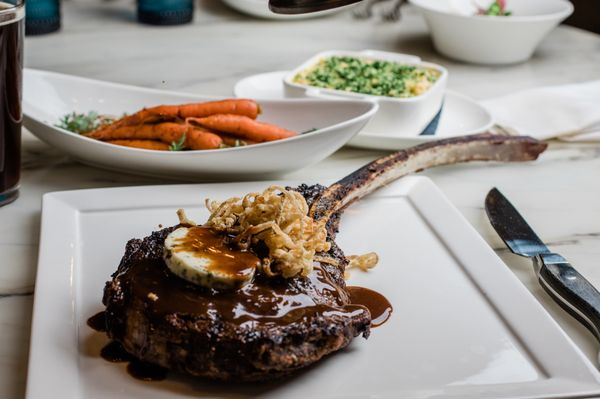pizza: (0, 1, 25, 210)
sandwich: (404, 178, 567, 379), (485, 185, 600, 350)
sushi: (20, 65, 376, 181), (283, 50, 448, 138), (409, 0, 572, 67)
